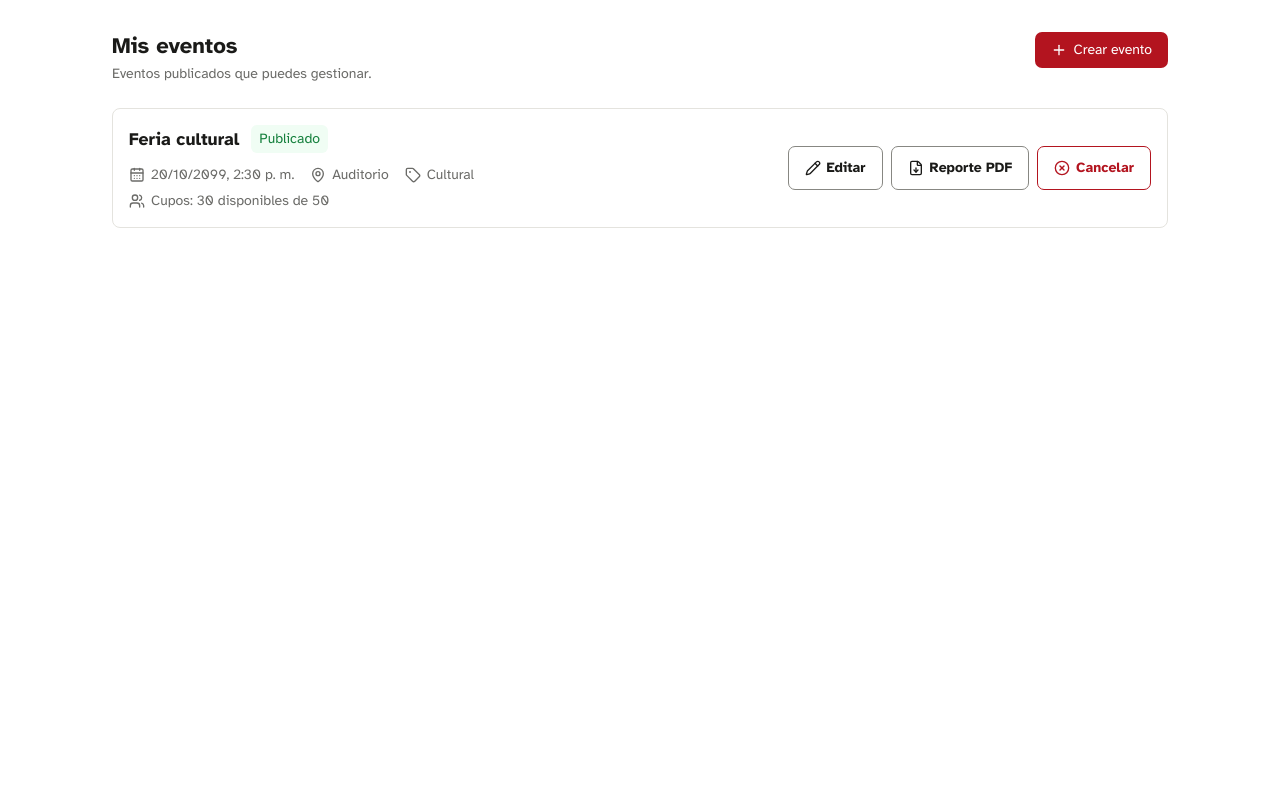
Test: MisEventos (HU-07) › cancela el evento solo tras confirmar y lo retira de la lista
Expected: the heading "Feria cultural" is shown, x1=129 y1=127 x2=239 y2=151
Click the button with aria-label "Cancelar evento Feria cultural" at (1094, 168), box x1=1037 y1=146 x2=1151 y2=190
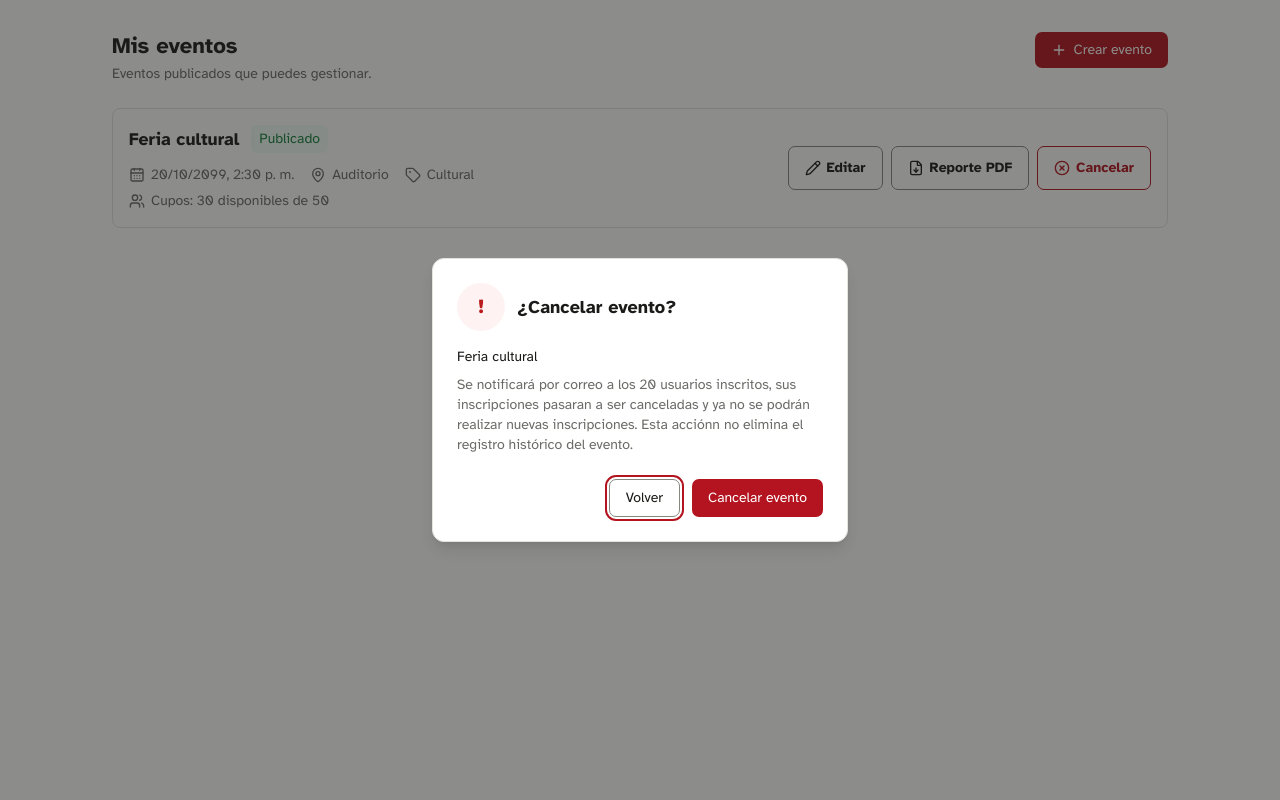
Expected: the dialog "¿Cancelar evento?" shows "Se notificará por correo a los 20 usuarios inscritos", x1=432 y1=258 x2=848 y2=542
Click the button "Cancelar evento" at (758, 498), box x1=692 y1=479 x2=823 y2=517
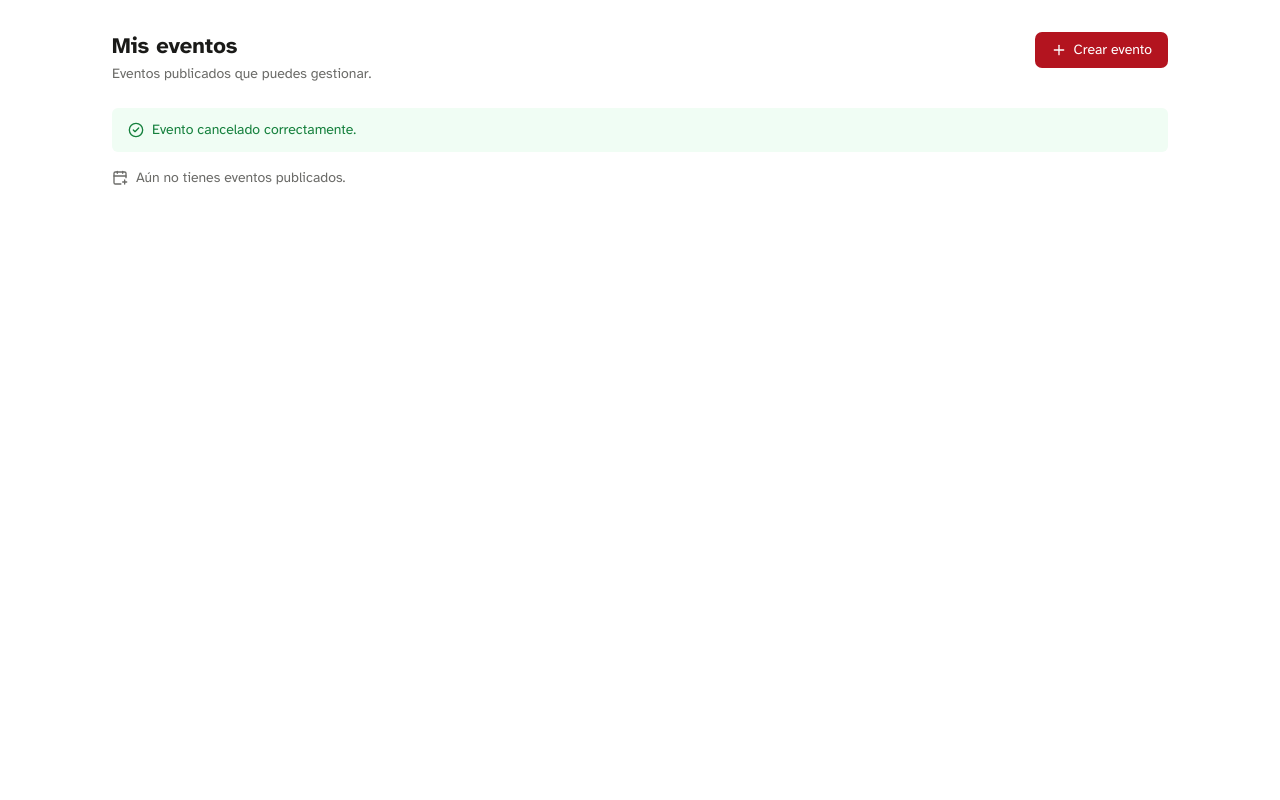
Expected: the message reads "Evento cancelado correctamente.", x1=152 y1=121 x2=356 y2=138
Expected: the heading "Feria cultural" is gone
Expected: the dialog is gone
